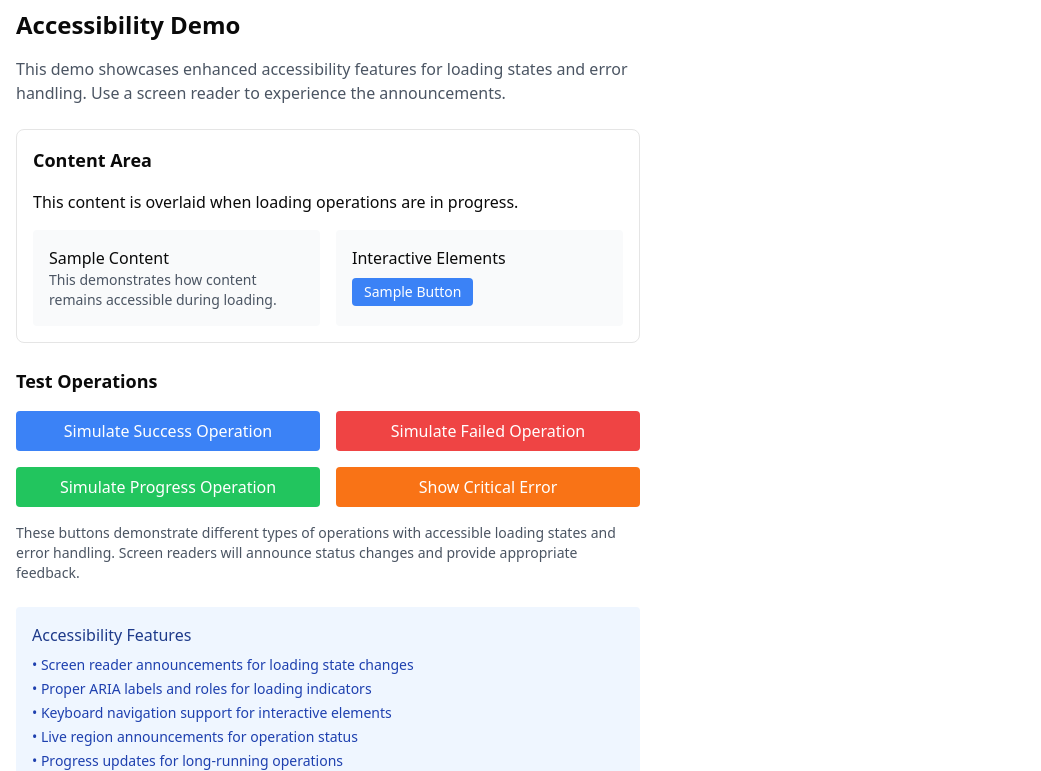
Test: AccessibilityDemo Component › should show loading overlay when operation starts
Click the button "Simulate Success Operation": [168, 431] box [16,411,320,451]
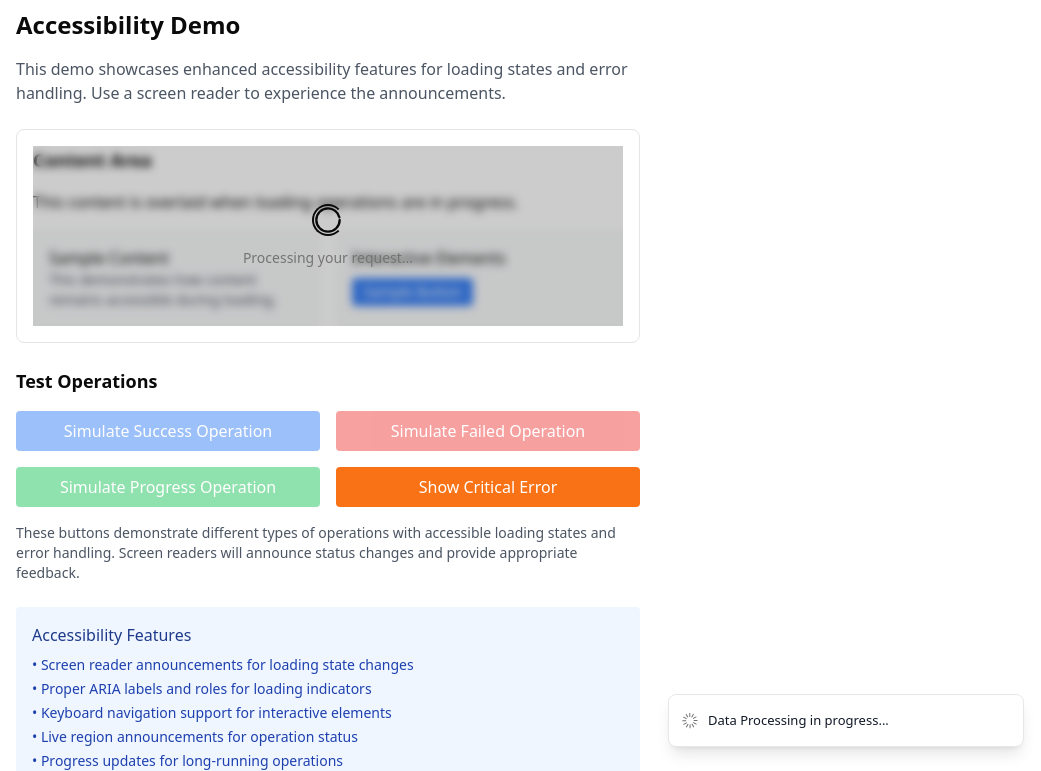
Now the message "Processing your request..." is shown, box [33,146,623,326]
Now the text "Processing your request..." is shown, box [243,248,413,268]
Now the button "Simulate Success Operation" is disabled, box [16,411,320,451]
